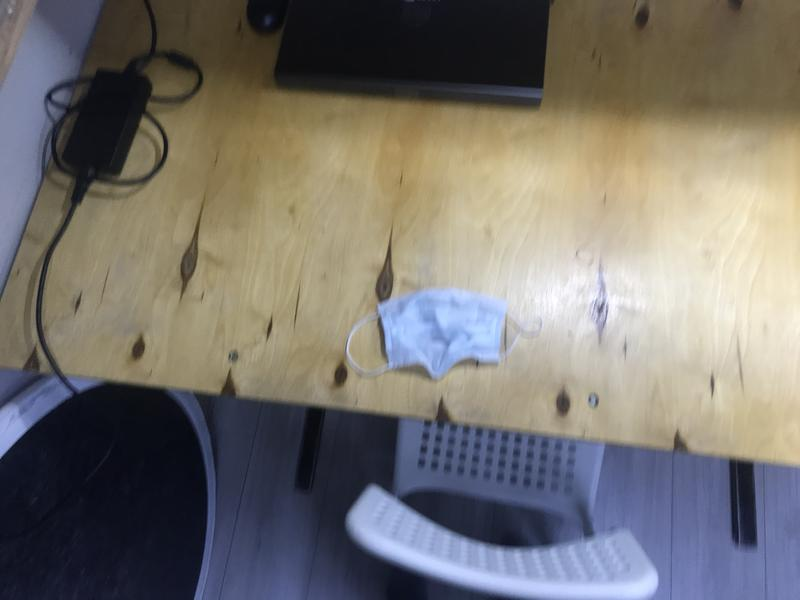medical_mask: (346, 289, 543, 379)
